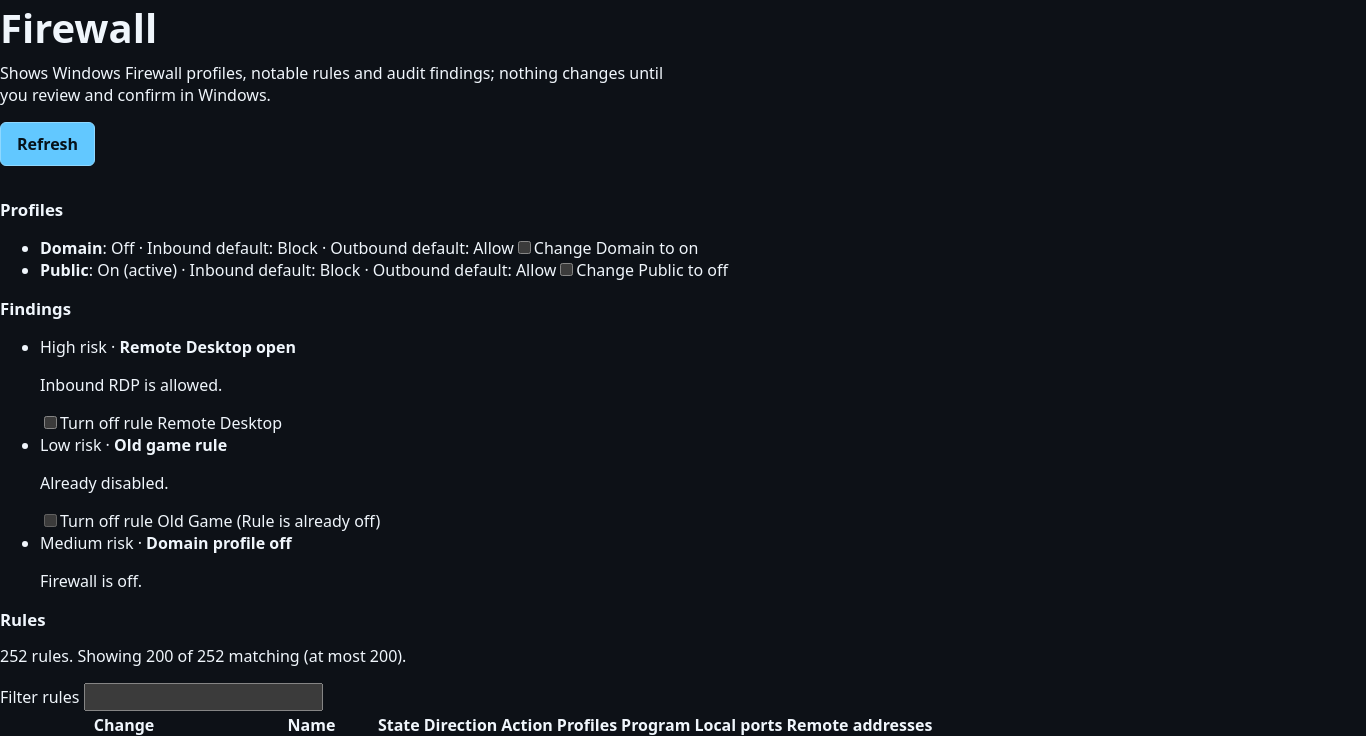
Test: a profile toggle sends the exact change and turning one off shows the high-risk warning
Expected: the checkbox labelled "Change Domain to on" is shown, [518,241,531,254]
Click the checkbox labelled "Change Public to off": (567, 270) [560,263,573,276]
(page scrolled)
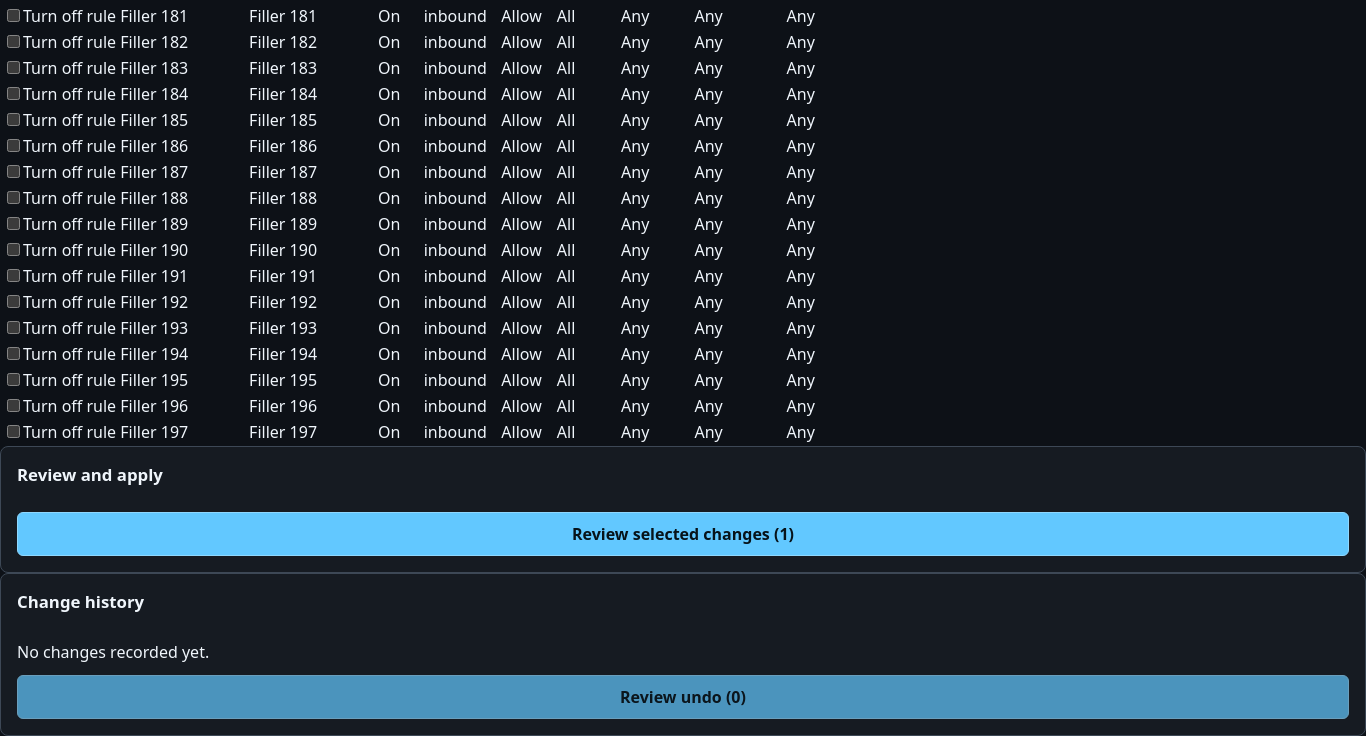
Click the button "Review selected changes (1)": (683, 534) [17,512,1349,556]
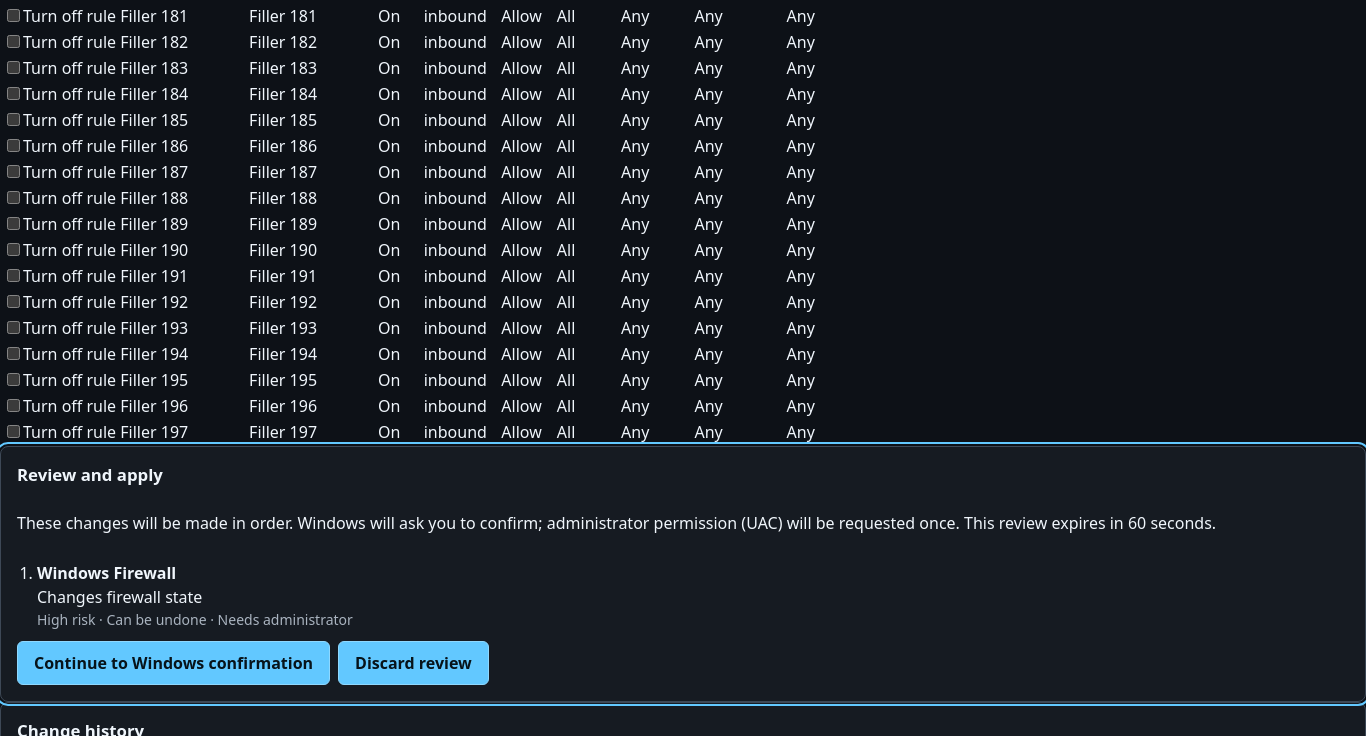
Result: the button "Continue to Windows confirmation" is shown at [17,641,330,685]
